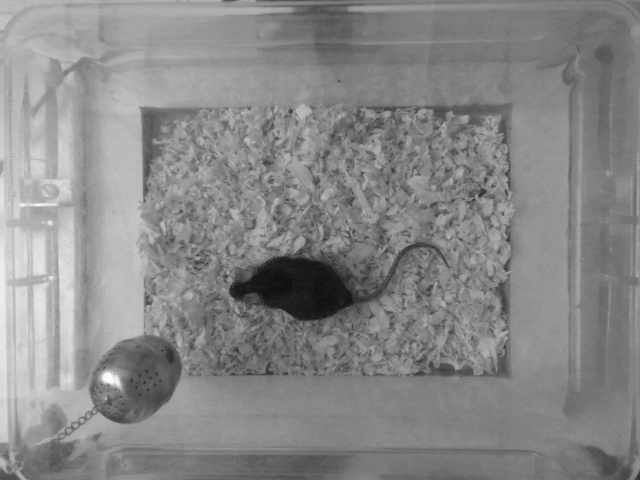mice: (224, 238, 449, 320)
